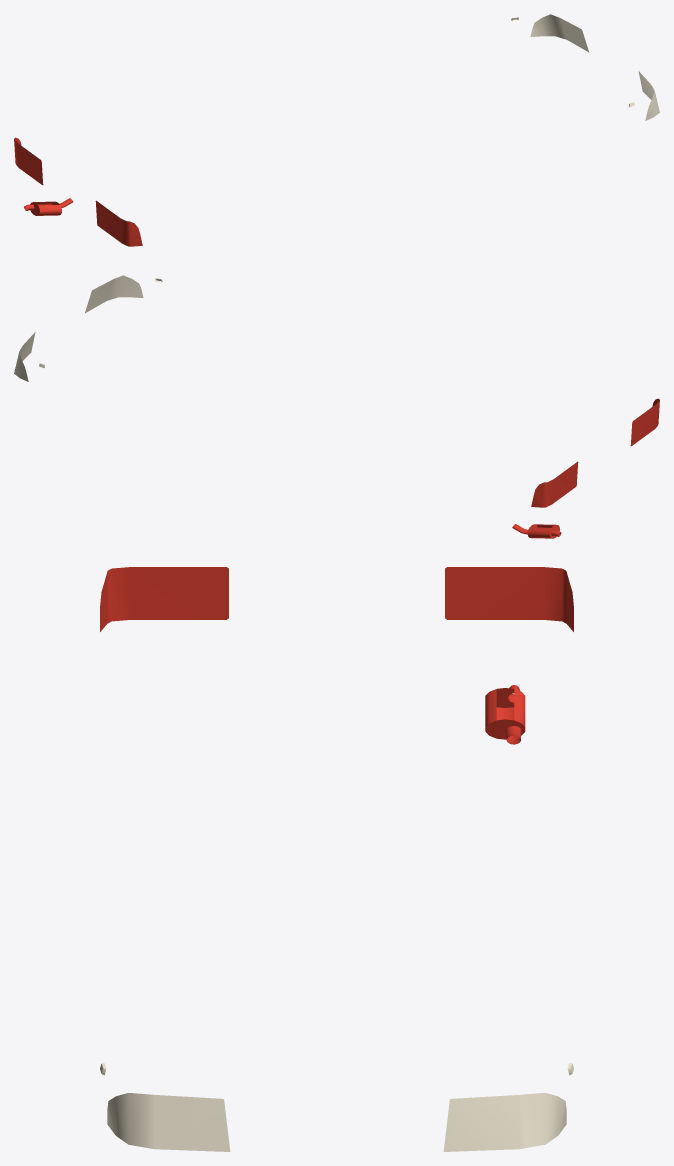
File: moskvich2141_lights.obj
3 renders of one model, top to bottom at view 1: azimuth 30°, elevation 25°; view 2: azimuth 150°, elevation 25°; view 3: azimuth 270°, elevation 25°, orthographic. The views are drawn at different scales.
Visible parts, largest first — view 1: moskvich2141_Taillight, moskvich2141_Headlight; view 2: moskvich2141_Taillight, moskvich2141_Headlight; view 3: moskvich2141_Taillight, moskvich2141_Headlight.
Boxes of the visible parts, x1=… form: moskvich2141_Taillight: x1=14, y1=137, x2=142, y2=246; moskvich2141_Headlight: x1=511, y1=14, x2=659, y2=120; moskvich2141_Taillight: x1=512, y1=398, x2=659, y2=538; moskvich2141_Headlight: x1=14, y1=275, x2=162, y2=381; moskvich2141_Taillight: x1=100, y1=567, x2=573, y2=744; moskvich2141_Headlight: x1=100, y1=1063, x2=573, y2=1151.
Size of the model in its own units: 4.23 by 0.5328 by 1.59.
2 materials, 2 textured.
